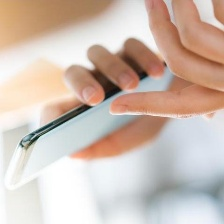phone: (3, 55, 186, 193)
